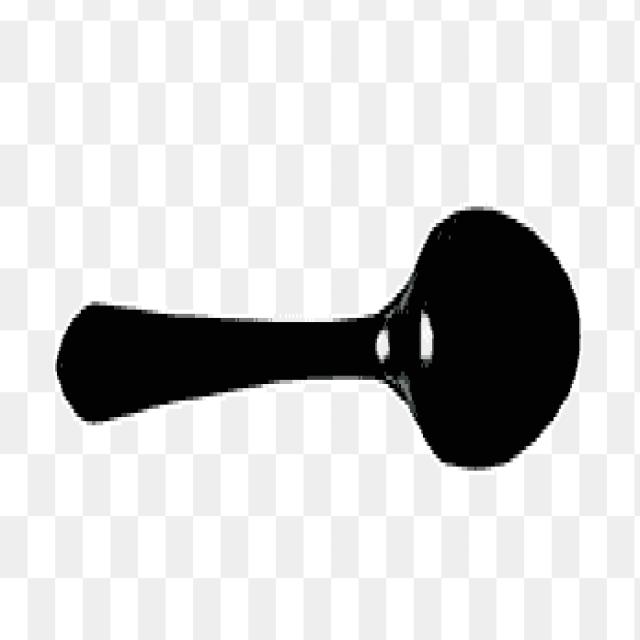Sendok: (44, 168, 595, 524)
